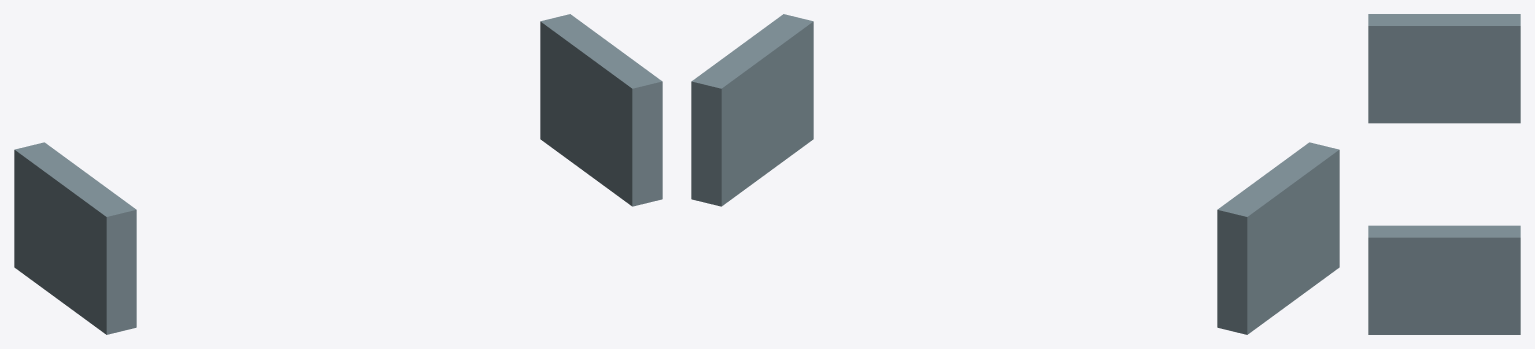
The model's file is Frontier_MiningConveyor_Legs.glb.
3 renders of one model, left to right at view 1: azimuth 30°, elevation 25°; view 2: azimuth 150°, elevation 25°; view 3: azimuth 270°, elevation 25°, orthographic. The views are drawn at different scales.
Parts seen in each view (by area): view 1: Frontier_MiningConveyor_Legs; view 2: Frontier_MiningConveyor_Legs; view 3: Frontier_MiningConveyor_Legs.
Part boxes in pixels (box(x1,y1,x2,y2)): Frontier_MiningConveyor_Legs: box(14, 14, 662, 334); Frontier_MiningConveyor_Legs: box(691, 14, 1339, 334); Frontier_MiningConveyor_Legs: box(1368, 14, 1520, 334).
Size of the model in its own units: 2.96 by 0.6 by 0.85.
